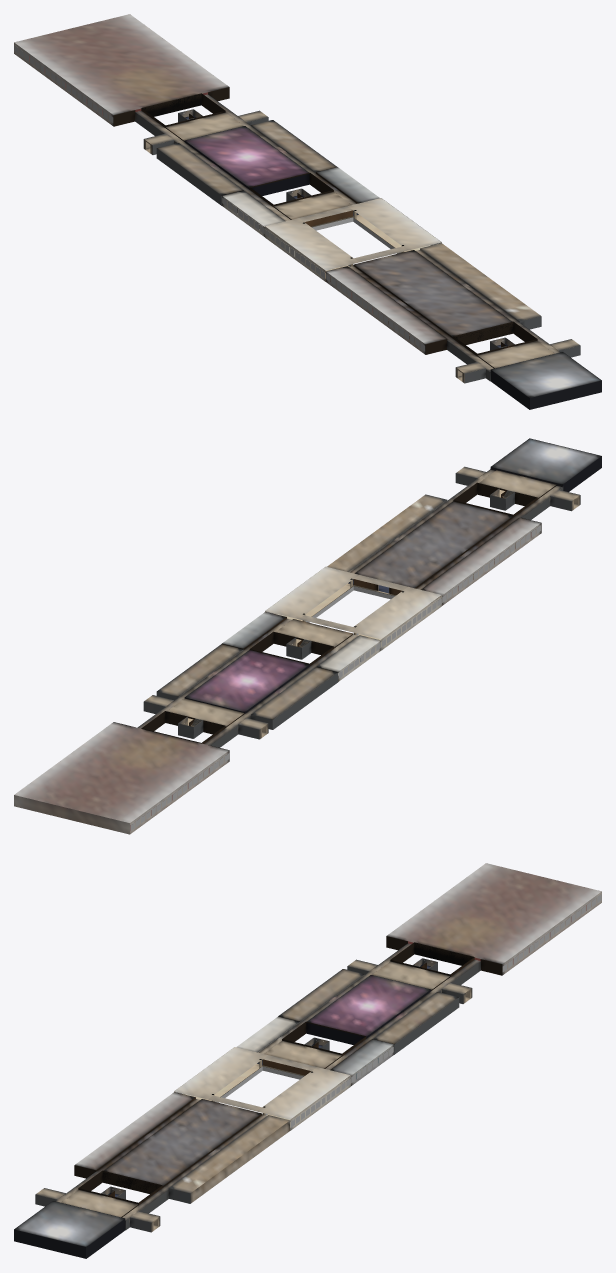
The model's file is deck7.glb.
The picture shows the model from 3 angles, top to bottom: view 1: azimuth 30°, elevation 25°; view 2: azimuth 150°, elevation 25°; view 3: azimuth 330°, elevation 25°; orthographic projection.
Visible parts, largest first — view 1: kr_decke, kr_wand, kr_holz, kr_stoff, kr_glas, kr_marmor; view 2: kr_decke, kr_wand, kr_holz, kr_glas, kr_stoff, kr_marmor; view 3: kr_decke, kr_wand, kr_holz, kr_stoff, kr_glas, kr_marmor.
Part boxes in pixels (bbox=[...]): kr_decke: bbox=[14, 14, 601, 397]; kr_wand: bbox=[14, 42, 580, 383]; kr_holz: bbox=[113, 87, 537, 368]; kr_stoff: bbox=[184, 126, 601, 409]; kr_glas: bbox=[14, 45, 439, 351]; kr_marmor: bbox=[146, 118, 506, 381]; kr_decke: bbox=[14, 438, 601, 822]; kr_wand: bbox=[14, 467, 580, 834]; kr_holz: bbox=[121, 482, 556, 748]; kr_glas: bbox=[130, 525, 540, 830]; kr_stoff: bbox=[184, 438, 601, 713]; kr_marmor: bbox=[188, 490, 578, 737]; kr_decke: bbox=[14, 863, 601, 1246]; kr_wand: bbox=[35, 891, 601, 1232]; kr_holz: bbox=[74, 936, 502, 1217]; kr_stoff: bbox=[14, 975, 431, 1258]; kr_glas: bbox=[176, 894, 601, 1127]; kr_marmor: bbox=[101, 965, 469, 1230].
Bounding box in the file's own units: 31.04 × 3 × 228.
